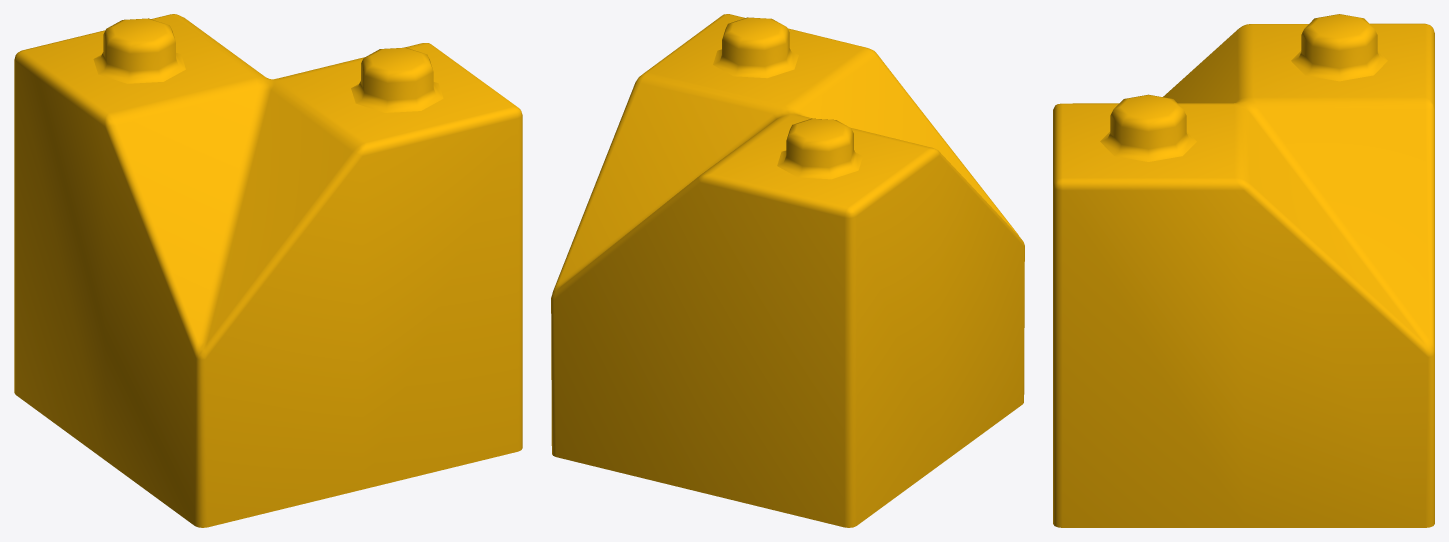
Rendered from Lowered_Two_Corner_Opposite.fbx.
3 renders of one model, left to right at view 1: azimuth 30°, elevation 25°; view 2: azimuth 150°, elevation 25°; view 3: azimuth 270°, elevation 25°, orthographic. The views are drawn at different scales.
Visible parts, largest first — view 1: Lowered_Two_Corner_Opposite, Knobs.002; view 2: Lowered_Two_Corner_Opposite, Knobs.002; view 3: Lowered_Two_Corner_Opposite, Knobs.002.
Part boxes in pixels (left/top/right/bottom): Lowered_Two_Corner_Opposite: left=14, top=14, right=522, bottom=527; Knobs.002: left=93, top=18, right=443, bottom=112; Lowered_Two_Corner_Opposite: left=551, top=14, right=1024, bottom=527; Knobs.002: left=713, top=17, right=862, bottom=179; Lowered_Two_Corner_Opposite: left=1053, top=23, right=1434, bottom=527; Knobs.002: left=1100, top=14, right=1387, bottom=161.
Bounding box in the file's own units: 1 × 1.1 × 1.
